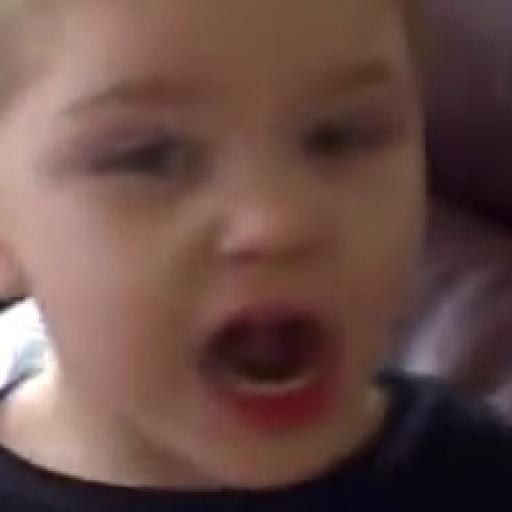Autism: (22, 29, 435, 499)
